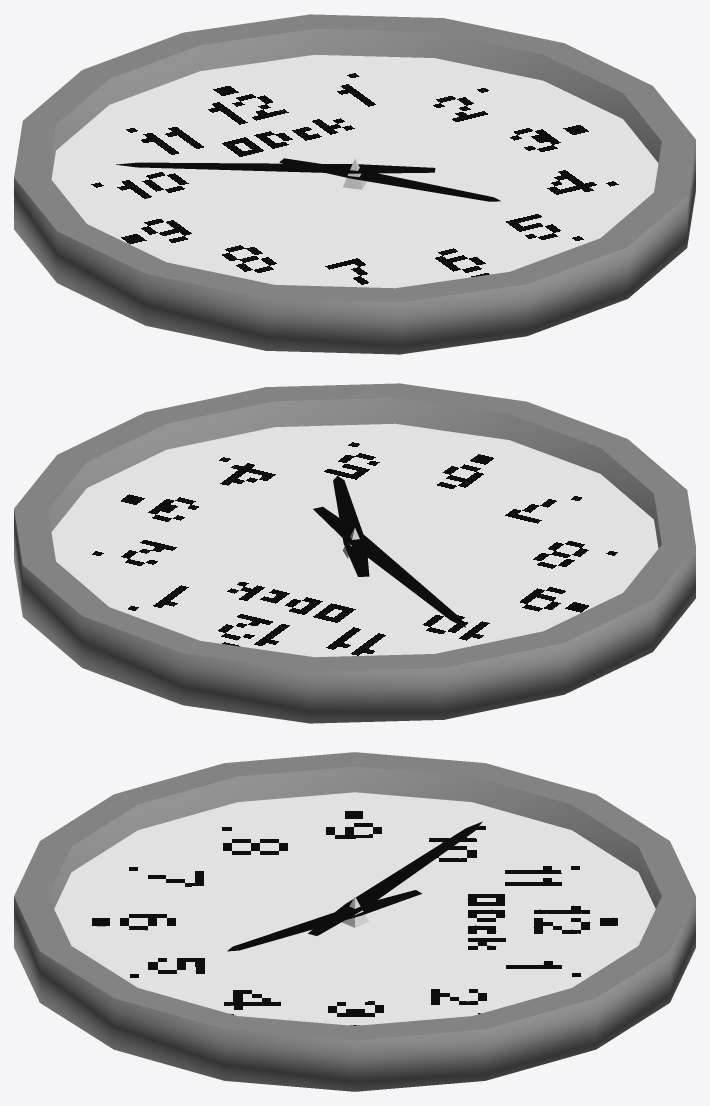
The model's file is clock.fbx.
3 views of the same model, one above another, from view 1: azimuth 30°, elevation 25°; view 2: azimuth 150°, elevation 25°; view 3: azimuth 270°, elevation 25° (orthographic).
Visible parts, largest first — view 1: Cylinder, long, short; view 2: Cylinder, long, short; view 3: Cylinder, long, short.
Boxes of the visible parts, x1,y1,x2,y2 form: Cylinder: (14, 14, 695, 354); long: (116, 162, 435, 173); short: (279, 158, 500, 201); Cylinder: (14, 383, 695, 723); long: (313, 506, 465, 627); short: (333, 476, 369, 576); Cylinder: (14, 752, 695, 1091); long: (308, 821, 482, 935); short: (227, 890, 421, 951).
Size of the model in its own units: 60 by 5 by 60.
4 materials, 1 textured.
